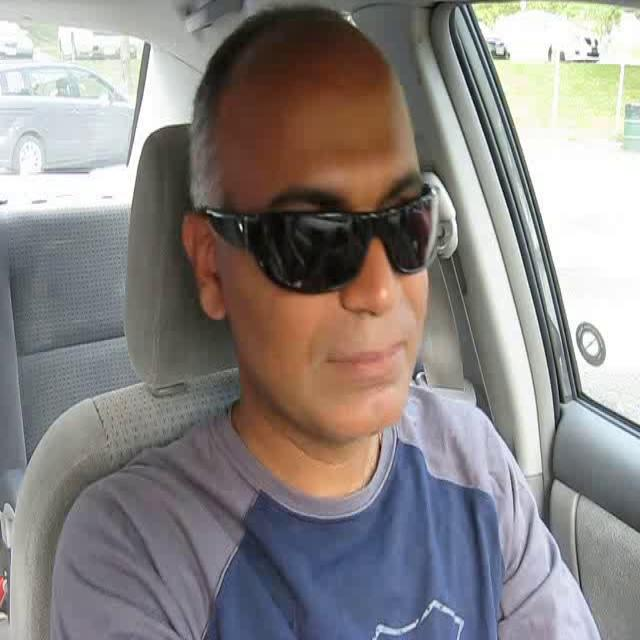close: (326, 339, 413, 381)
